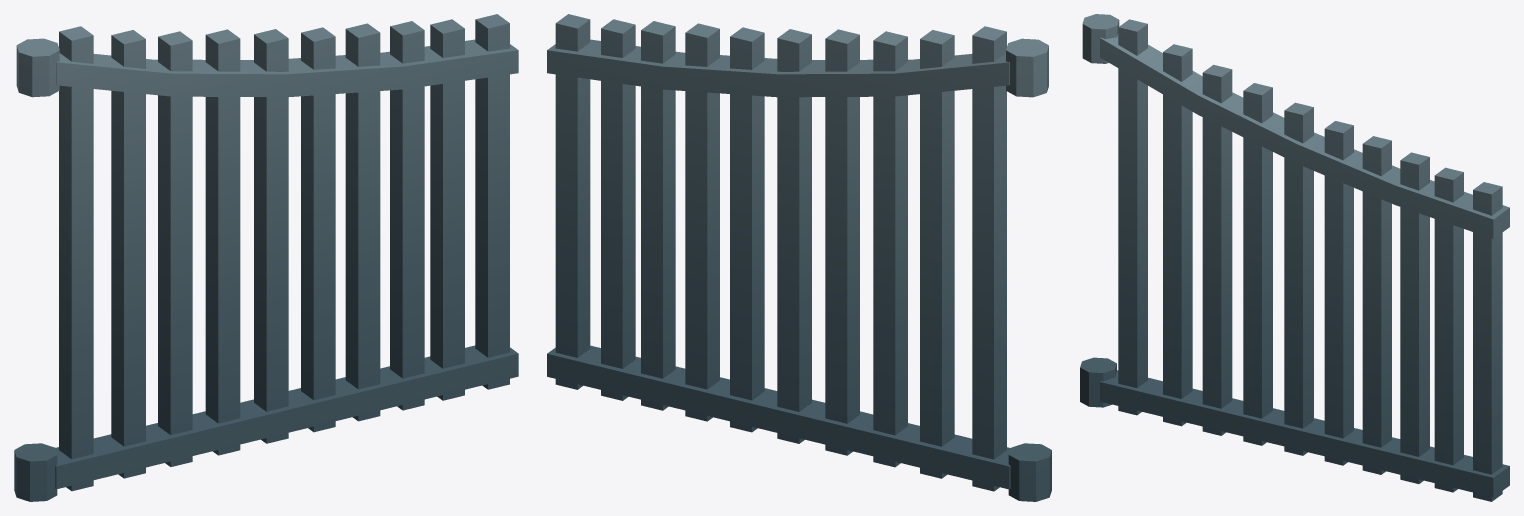
Rendered from gate.fbx.
3 views of the same model, side by side, from view 1: azimuth 30°, elevation 25°; view 2: azimuth 150°, elevation 25°; view 3: azimuth 330°, elevation 25° (orthographic). The views are drawn at different scales.
Parts seen in each view (by area): view 1: gate; view 2: gate; view 3: gate.
Boxes of the visible parts, x1,y1,x2,y2 form: gate: (14, 14, 518, 501); gate: (547, 14, 1051, 501); gate: (1080, 14, 1509, 501).
Size of the model in its own units: 333 by 291 by 26.44.
